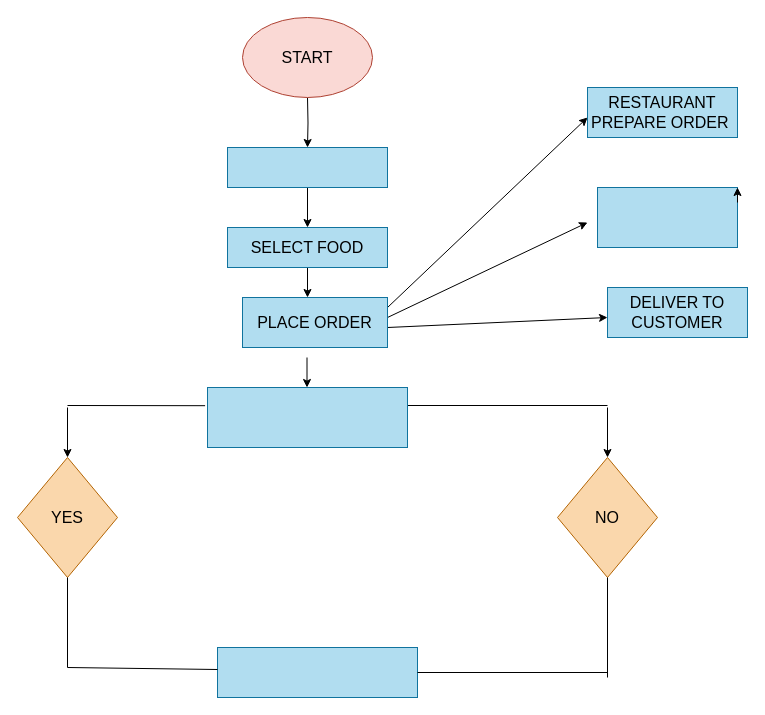
Image size: 765x715. Some labels were removed from this diagram. Here are the shapes that lost their labels. From the top down, the centre of each, then its label:
the point at 307,167: LOGIN
the point at 307,417: PAYMENT SUCCESS
the point at 317,672: END
